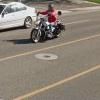Motorcycle: (26, 14, 74, 49)
